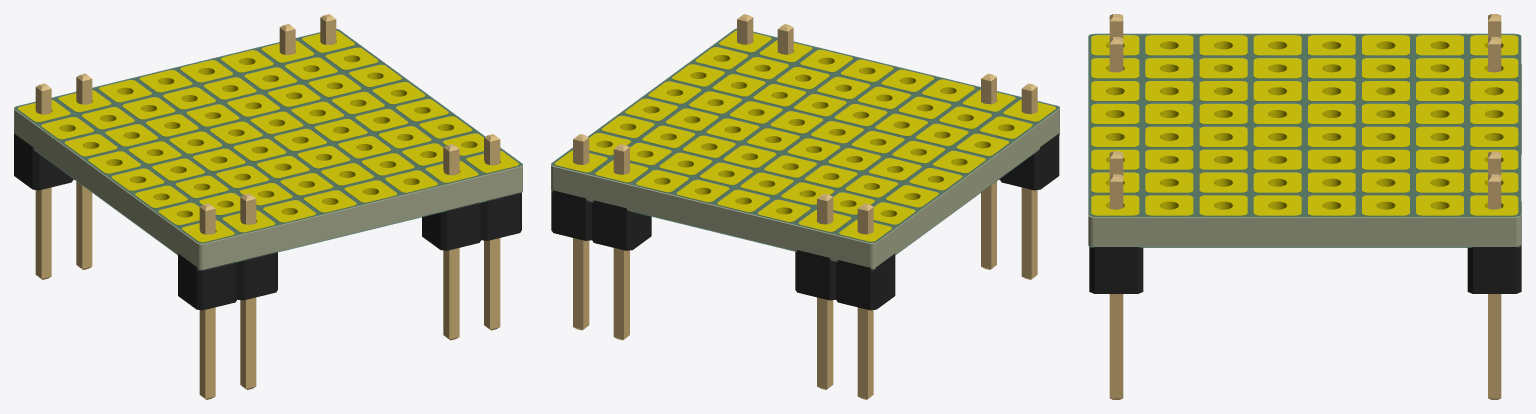
File: perfboard-prototyping-minibadge.glb
The picture shows the model from 3 angles, left to right: view 1: azimuth 30°, elevation 25°; view 2: azimuth 150°, elevation 25°; view 3: azimuth 270°, elevation 25°; orthographic projection. The views are drawn at different scales.
Parts seen in each view (by area): view 1: =>[0:1:1:3], =>[0:1:1:5], MB1 (×4), =>[0:1:1:4]; view 2: =>[0:1:1:3], =>[0:1:1:5], MB1 (×4), =>[0:1:1:4]; view 3: =>[0:1:1:3], =>[0:1:1:5], =>[0:1:1:4], MB1 (×4).
Boxes of the visible parts, left/top/right/bottom form: =>[0:1:1:3]: left=18, top=30, right=518, bottom=242; =>[0:1:1:5]: left=14, top=30, right=522, bottom=269; MB1 (×4): left=14, top=14, right=521, bottom=399; =>[0:1:1:4]: left=14, top=29, right=522, bottom=270; =>[0:1:1:3]: left=554, top=30, right=1055, bottom=241; =>[0:1:1:5]: left=551, top=30, right=1059, bottom=269; MB1 (×4): left=551, top=14, right=1059, bottom=399; =>[0:1:1:4]: left=551, top=28, right=1059, bottom=270; =>[0:1:1:3]: left=1091, top=35, right=1518, bottom=215; =>[0:1:1:5]: left=1088, top=35, right=1521, bottom=246; =>[0:1:1:4]: left=1088, top=33, right=1521, bottom=247; MB1 (×4): left=1089, top=14, right=1521, bottom=399.
Size of the model in its own units: 0.0203 by 0.0115 by 0.0203.
